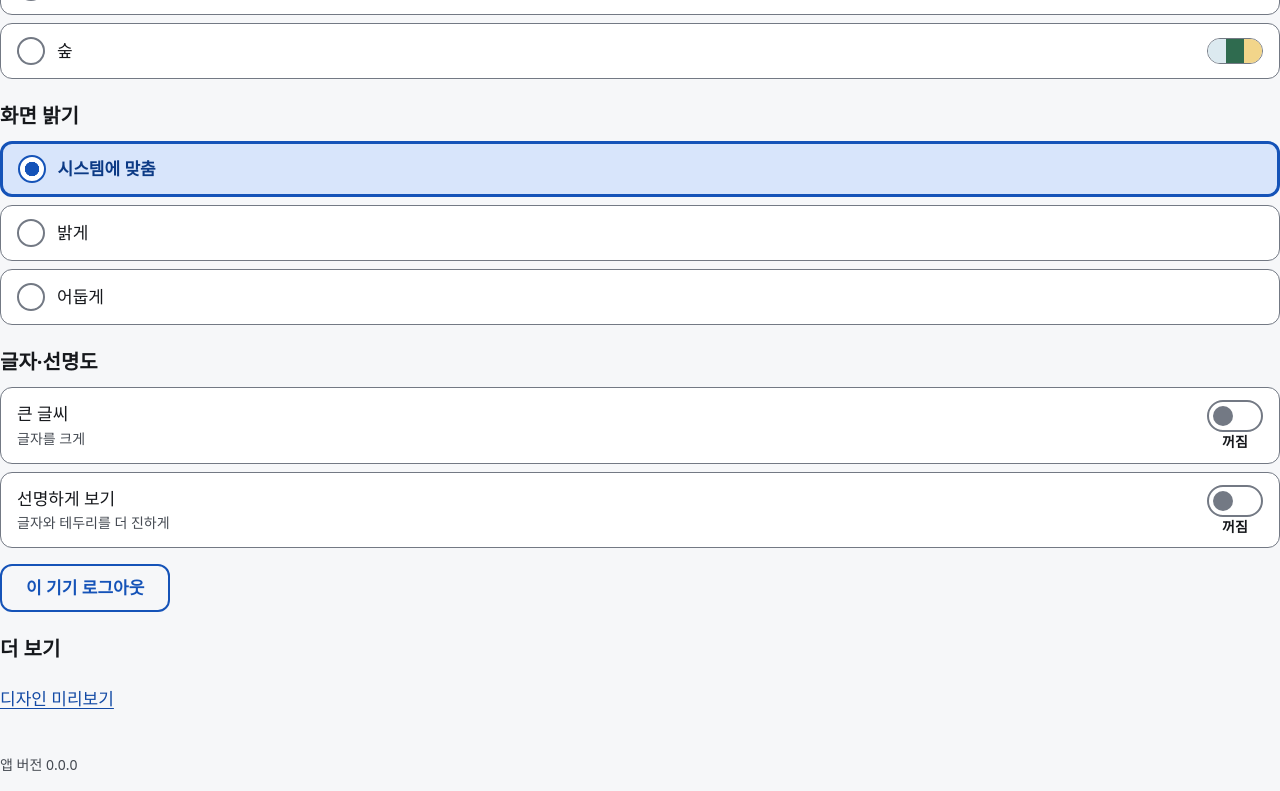
Scenario: logout with unsent records › says exactly which are waiting and which failed to send
This screenshot has width=1280, height=791.
(page scrolled)
Click the button "이 기기 로그아웃".
click(85, 588)  # box [0,564,170,612]
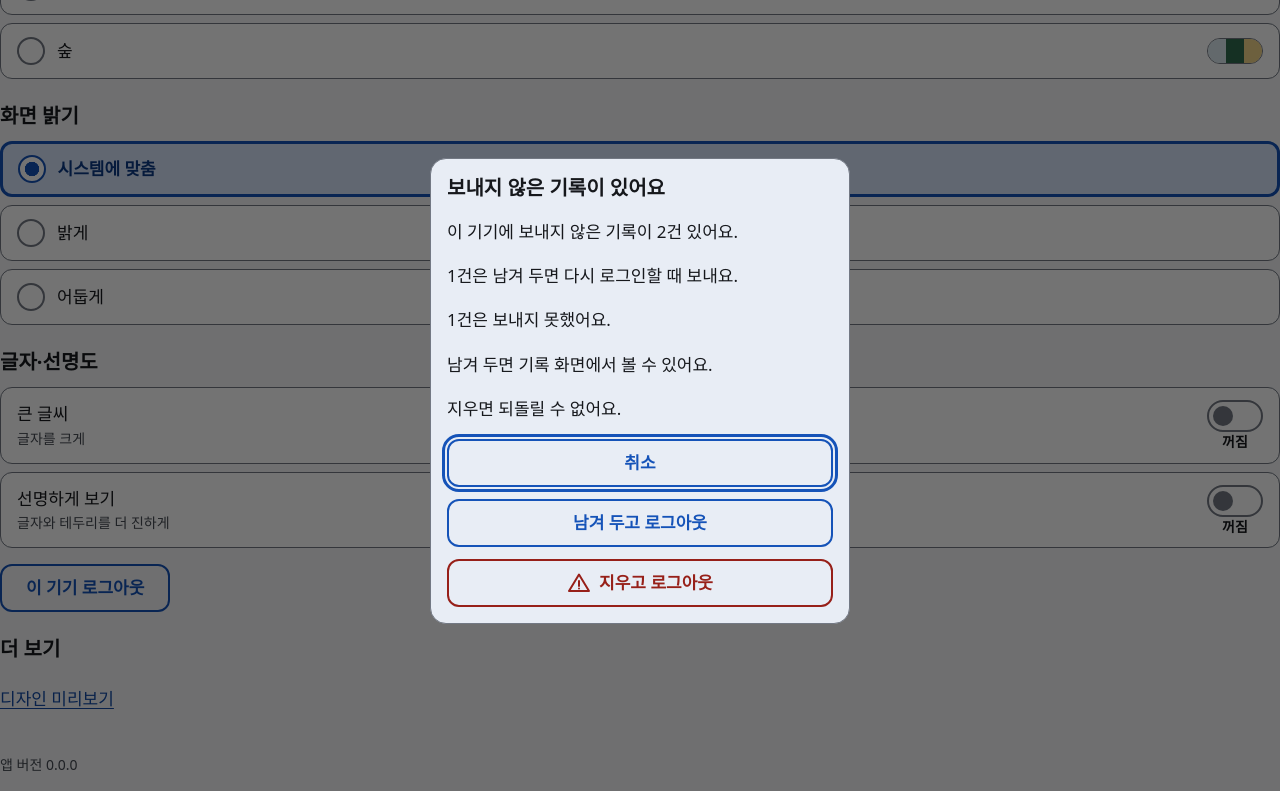
Now the text "이 기기에 보내지 않은 기록이 2건 있어요." is shown, box [447,220,738,243]
Now the text "1건은 남겨 두면 다시 로그인할 때 보내요." is shown, box [447,264,738,287]
Now the text "1건은 보내지 못했어요." is shown, box [447,308,611,331]
